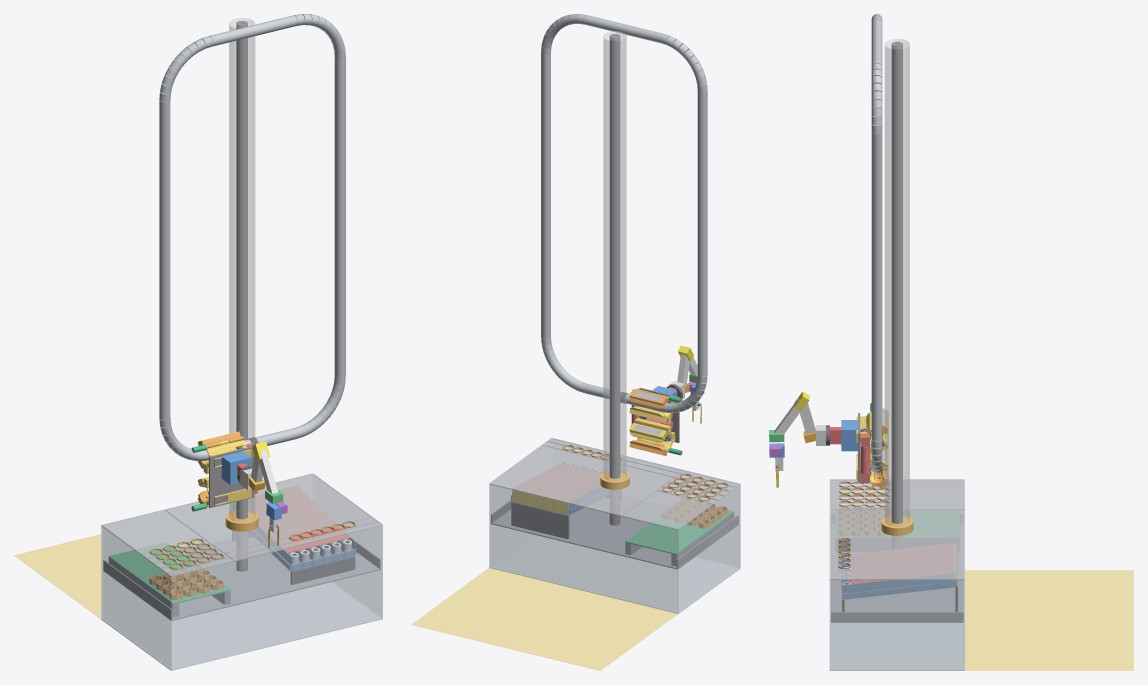
Rendered from podgrab-assembly.glb.
3 views of the same model, side by side, from view 1: azimuth 30°, elevation 25°; view 2: azimuth 150°, elevation 25°; view 3: azimuth 270°, elevation 25° (orthographic). The views are drawn at different scales.
Size of the model in its own units: 0.7 by 1.9 by 1.08.
